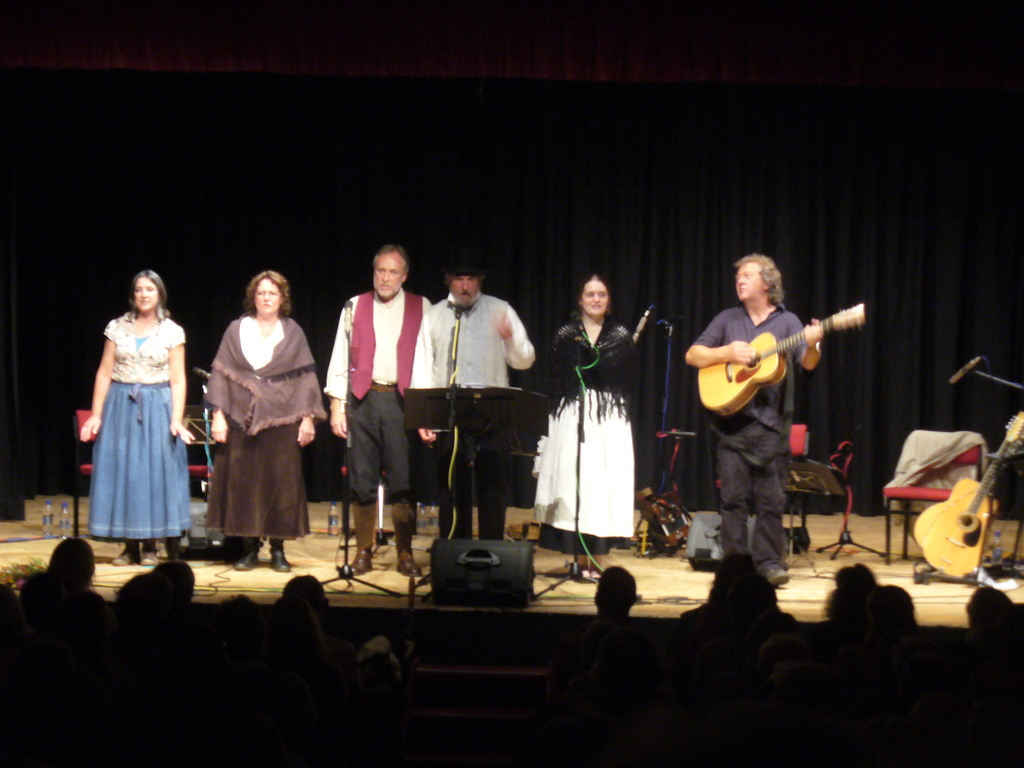Person: (557, 554, 1024, 768), (0, 540, 401, 768), (683, 250, 821, 585), (202, 269, 329, 572), (322, 243, 434, 576), (411, 250, 534, 543), (79, 269, 198, 565), (550, 275, 637, 578)
